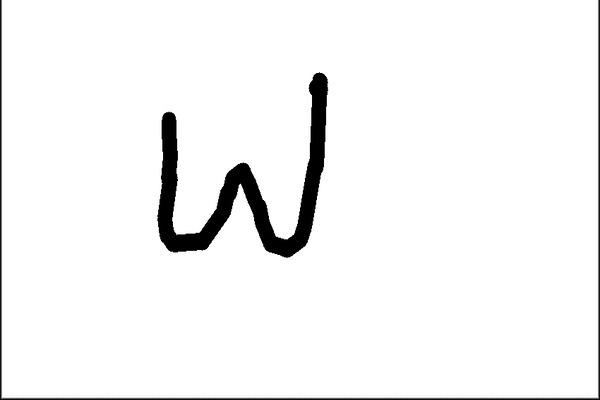w: (126, 59, 375, 288)
